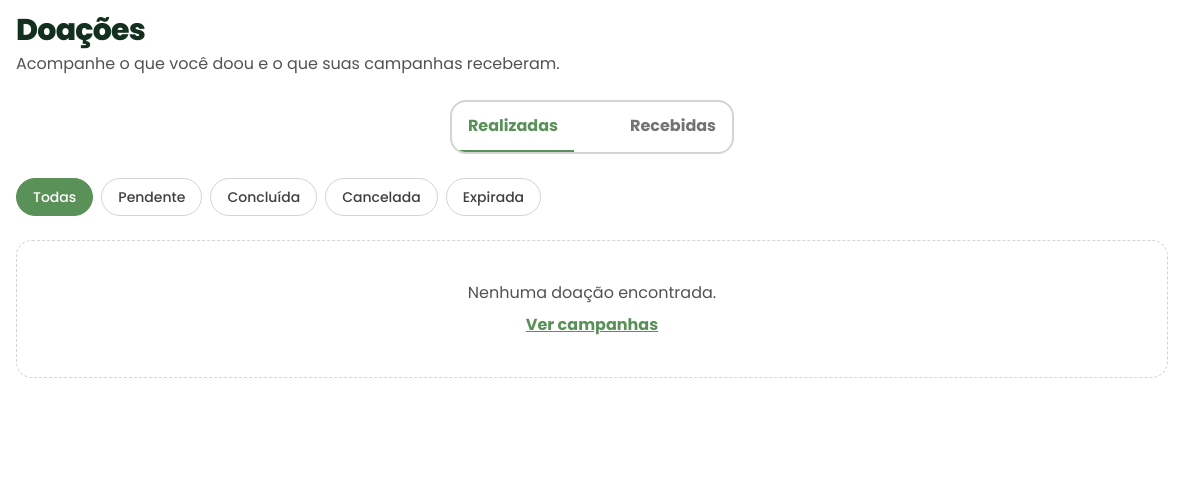
Test: MyCampaignsAndDonationsPage › trocar de aba atualiza a URL e a lista
The width and height of the screenshot is (1185, 491).
Expected: the text "Nenhuma doação encontrada." is shown, [468,281,716,304]
Click the tab "Recebidas": (673, 127) [614,102,732,152]
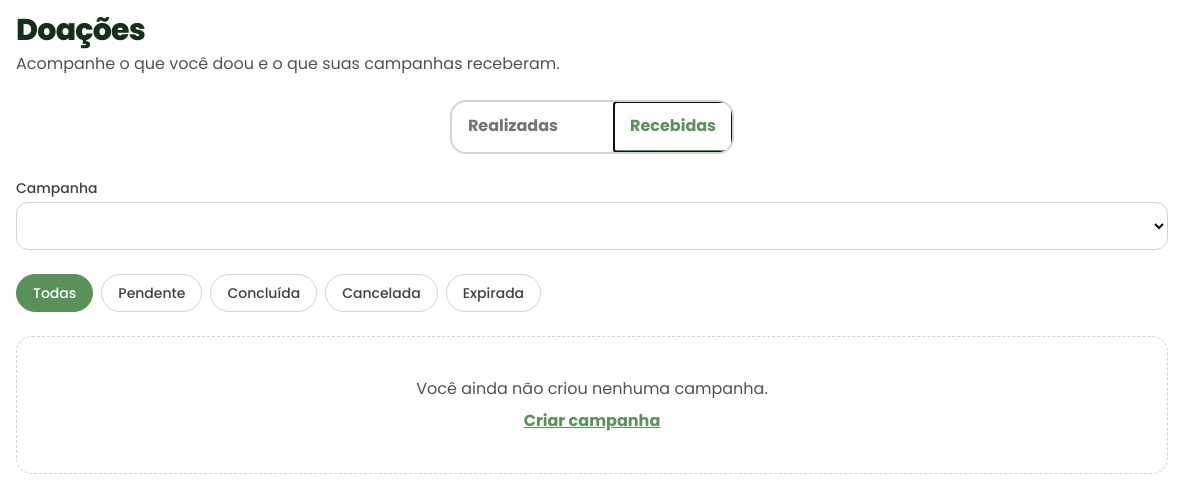
Expected: the text "Você ainda não criou nenhuma campanha. Criar campanha" is shown, [16,336,1168,474]
Click the tab "Realizadas": (513, 127) [452,102,574,152]
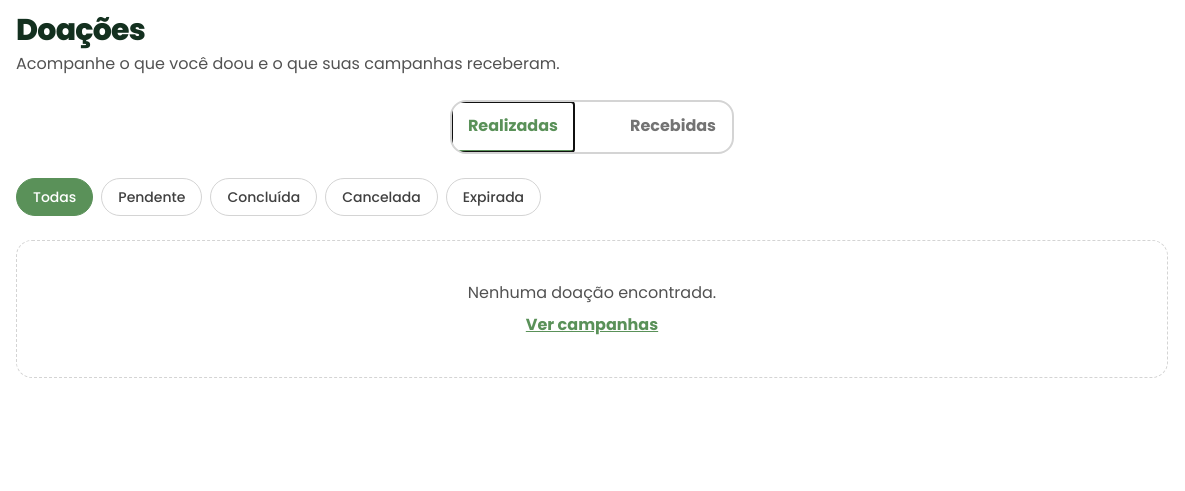
Expected: the text "Nenhuma doação encontrada." is shown, [468,281,716,304]
